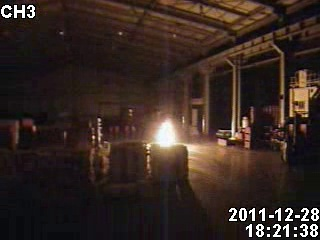fire: (153, 117, 182, 147)
